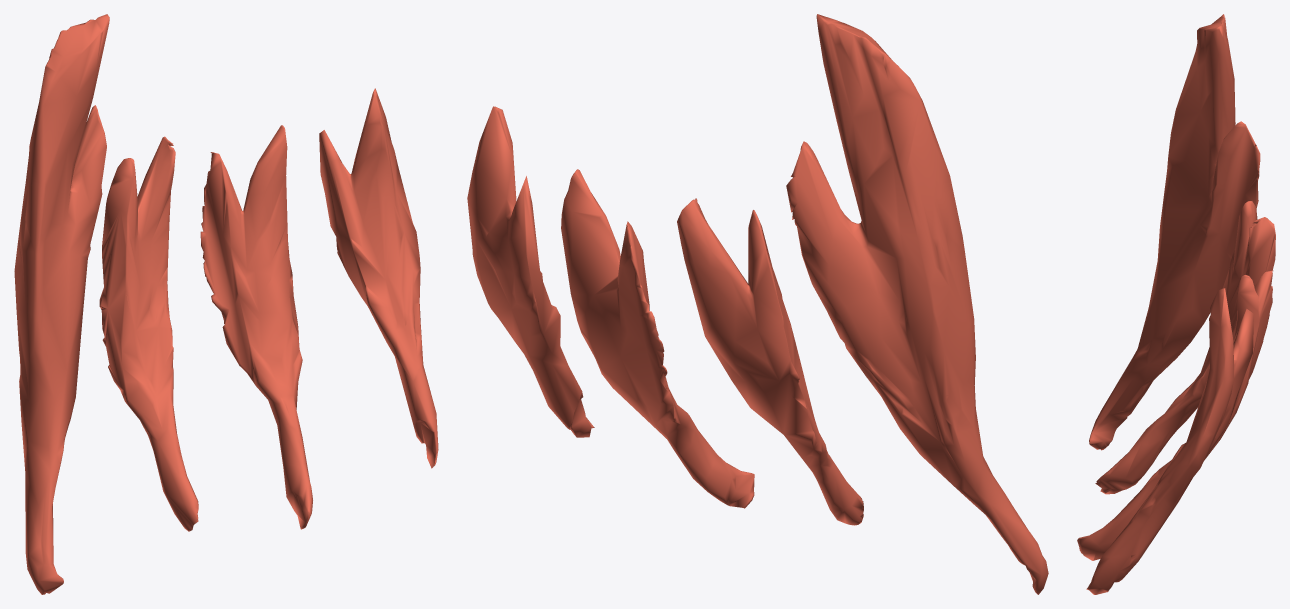
File: dorsal-interossei.glb
3 views of the same model, side by side, from view 1: azimuth 30°, elevation 25°; view 2: azimuth 150°, elevation 25°; view 3: azimuth 270°, elevation 25° (orthographic). The views are drawn at different scales.
Parts seen in each view (by area): view 1: dorsal interossei muscles of hand.r; view 2: dorsal interossei muscles of hand.r; view 3: dorsal interossei muscles of hand.r.
Boxes of the visible parts, box(x1,y1,x2,y2) form: dorsal interossei muscles of hand.r: box(14, 14, 438, 594); dorsal interossei muscles of hand.r: box(467, 14, 1048, 594); dorsal interossei muscles of hand.r: box(1077, 14, 1275, 594).
Bounding box in the file's own units: 0.0641 × 0.0711 × 0.0266.
